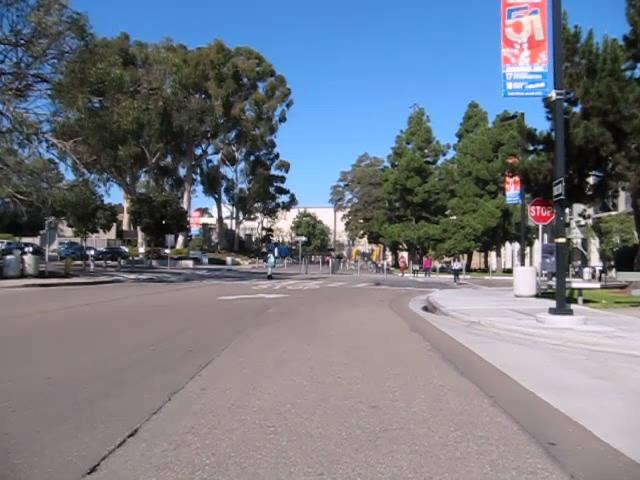stop: (527, 196, 556, 225)
